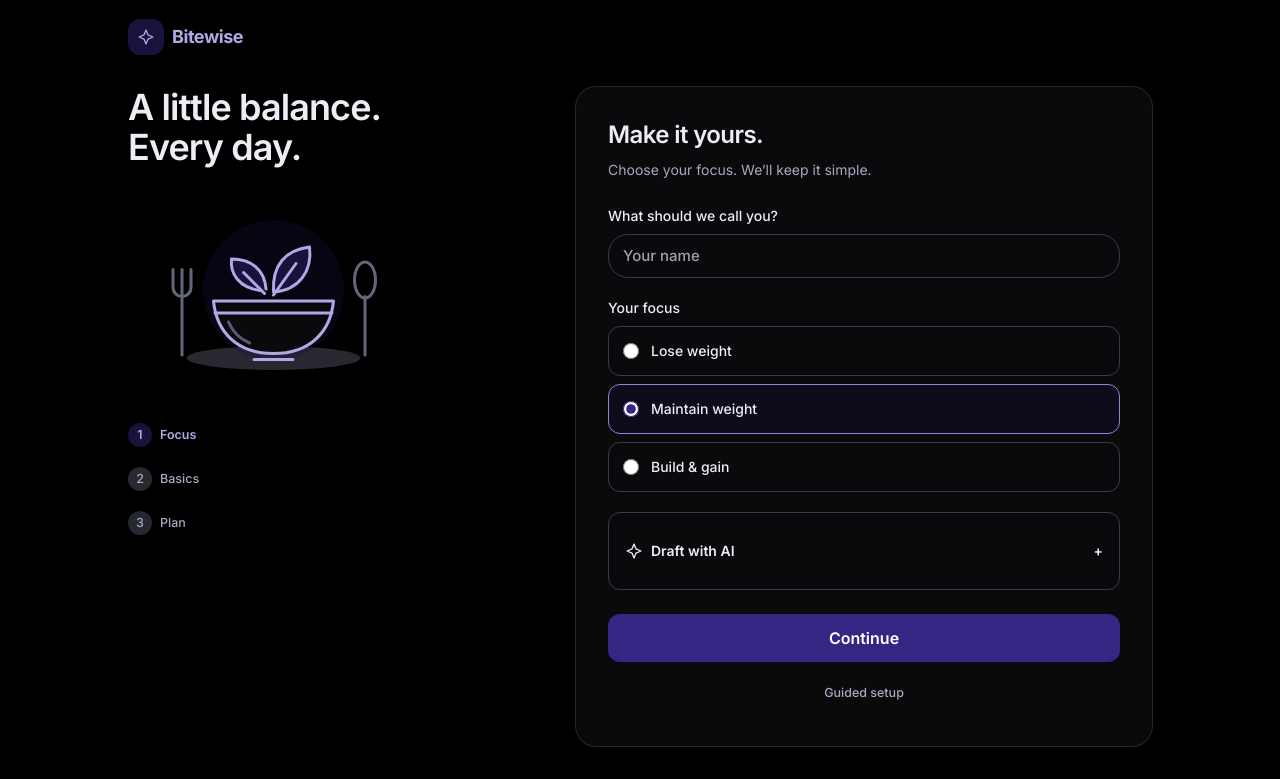
it: AI setup failure boundaries › distinguishes rate_limited without blocking manual setup
Click the button "Draft with AI +" at (693, 551), box [625,529,1103,573]
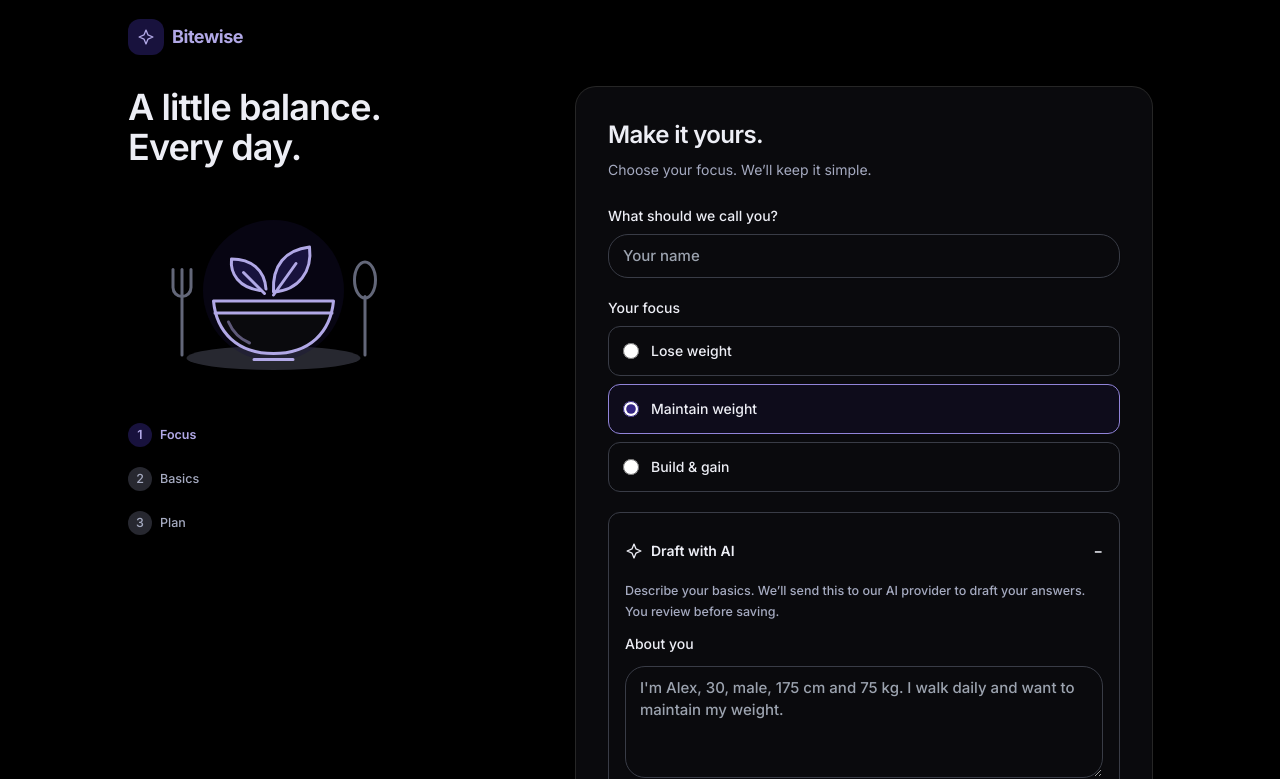
Replace the text in the text box labelled "About you" with "  I am Taylor A, 32, female, 175 cm and 75 kg.  " at (864, 722), box [625,666,1103,778]
(page scrolled)
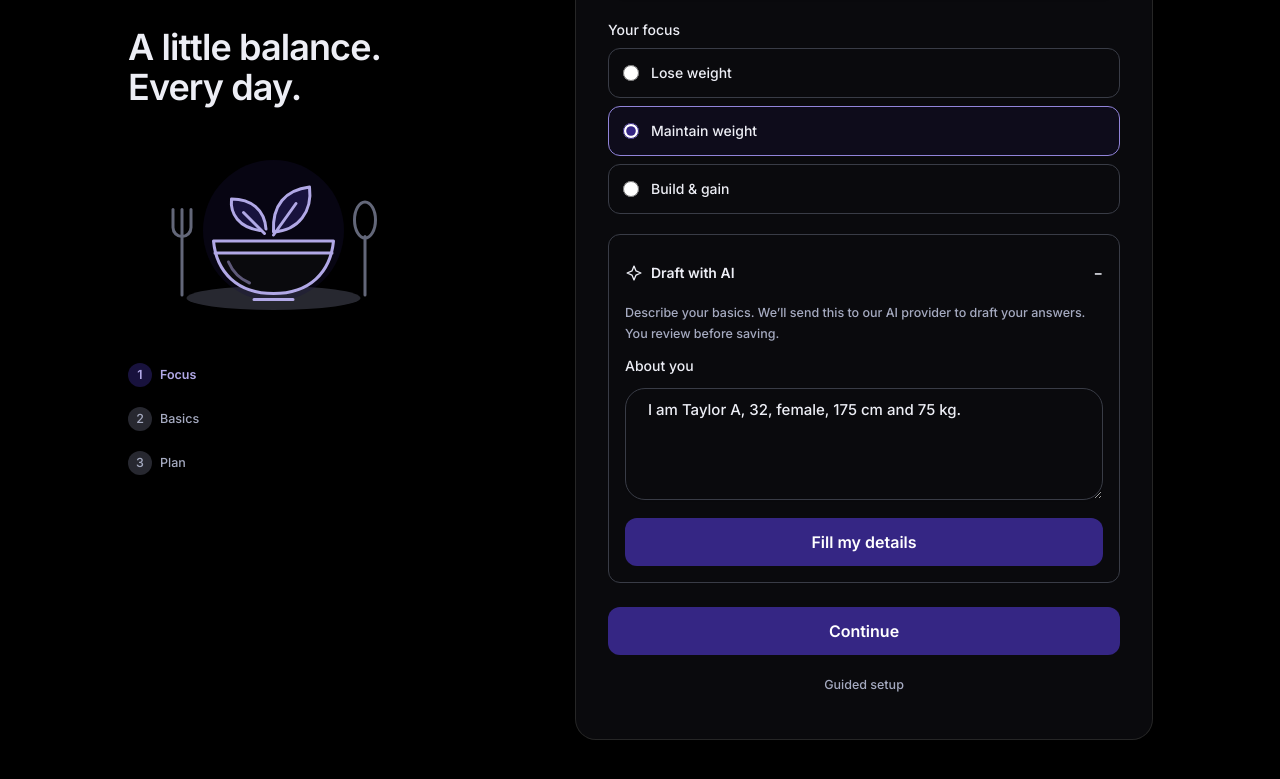
Click the button "Fill my details" at (864, 542), box [625,518,1103,566]
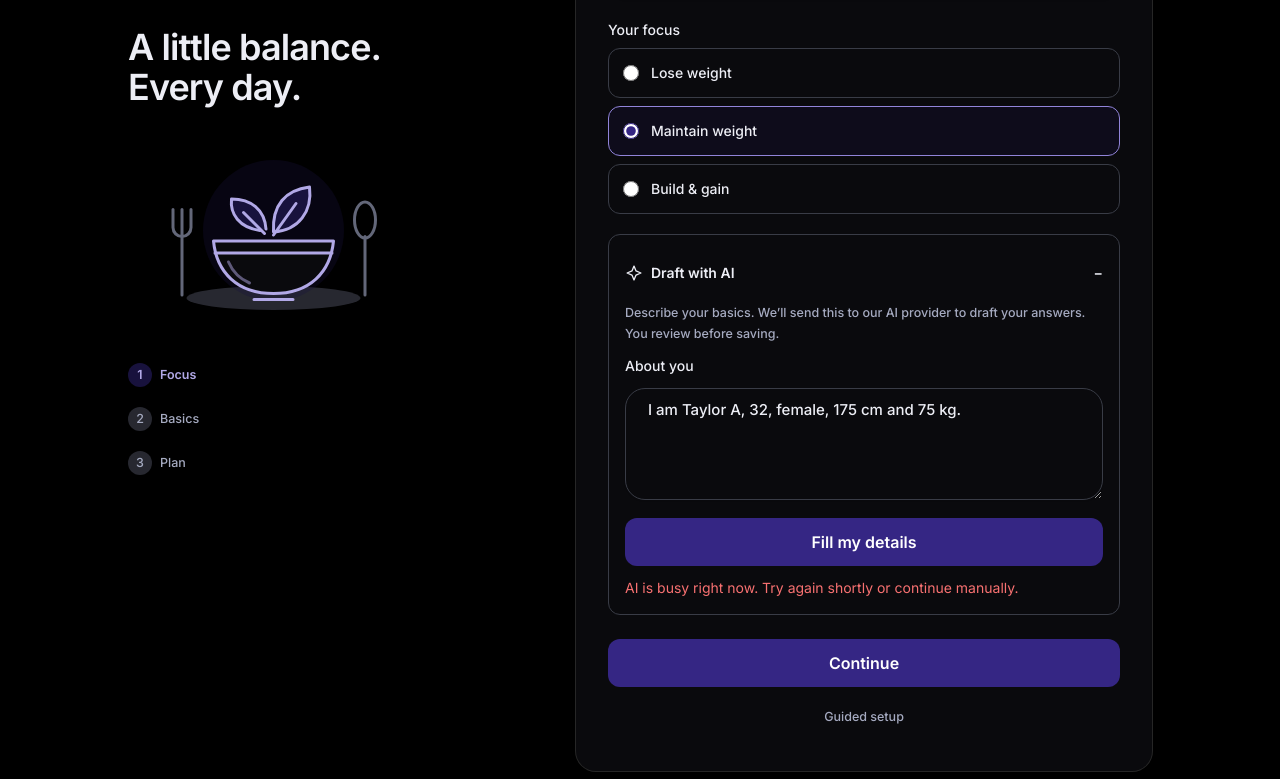
Expected: the message does not show "daily limit", [625,579,1018,596]
Expected: the button "Fill my details" is enabled, [625,518,1103,566]
Expected: the message shows "busy right now", [625,579,1018,596]
